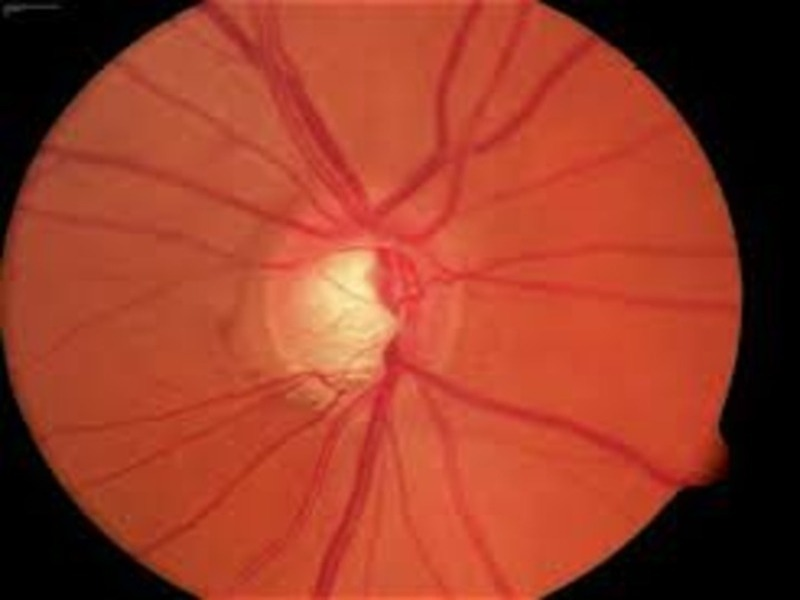Optic Cup: (322, 254, 393, 362)
Optic Disc: (270, 185, 463, 398)
